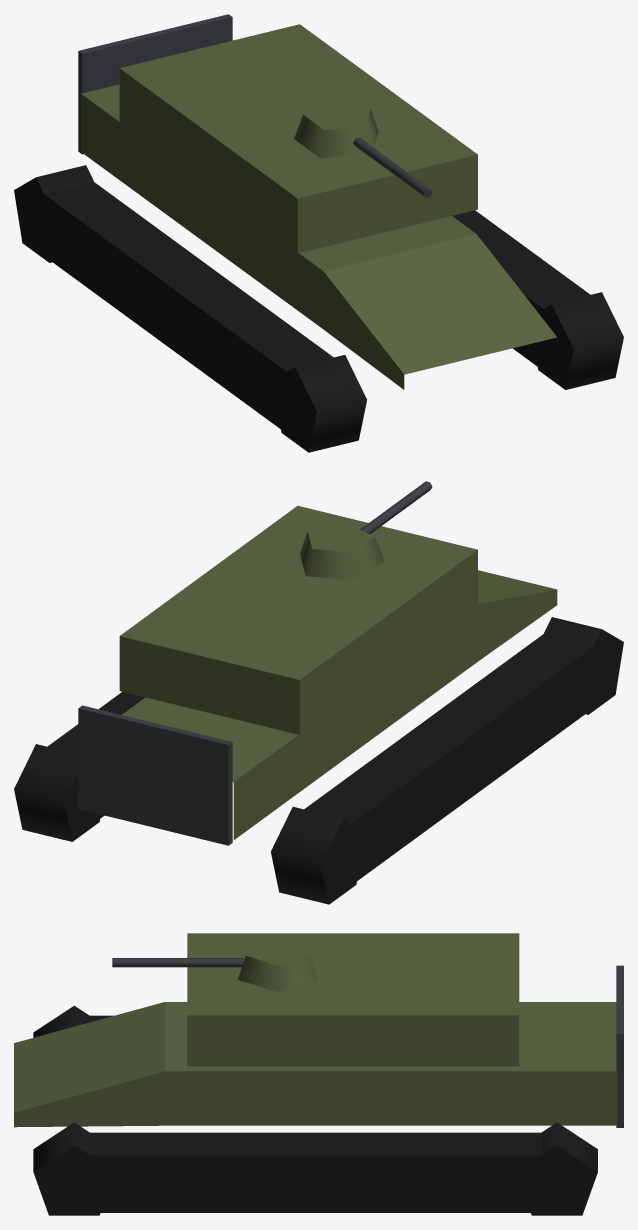
Rendered from veh_ground_apc_tracked_a08_lod1.glb.
The picture shows the model from 3 angles, top to bottom: view 1: azimuth 30°, elevation 25°; view 2: azimuth 150°, elevation 25°; view 3: azimuth 270°, elevation 25°; orthographic projection. The views are drawn at different scales.
Visible parts, largest first — view 1: body, track_r, track_l, ramp, gun; view 2: body, track_r, ramp, track_l, gun; view 3: body, track_l, gun, ramp, track_r.
Boxes of the visible parts, box(x1,y1,x2,y2) form: body: box(80, 24, 556, 389); track_r: box(14, 165, 366, 452); track_l: box(452, 210, 623, 389); ramp: box(78, 14, 232, 154); gun: box(294, 101, 432, 197); body: box(119, 505, 557, 839); track_r: box(271, 617, 623, 904); ramp: box(78, 705, 232, 845); track_l: box(14, 692, 144, 841); gun: box(300, 481, 432, 580); body: box(14, 933, 617, 1127); track_l: box(33, 1122, 597, 1215); gun: box(112, 939, 318, 991); ramp: box(616, 965, 623, 1127); track_r: box(33, 1005, 113, 1037).
Size of the model in its own units: 3.51 by 2.28 by 6.48.
